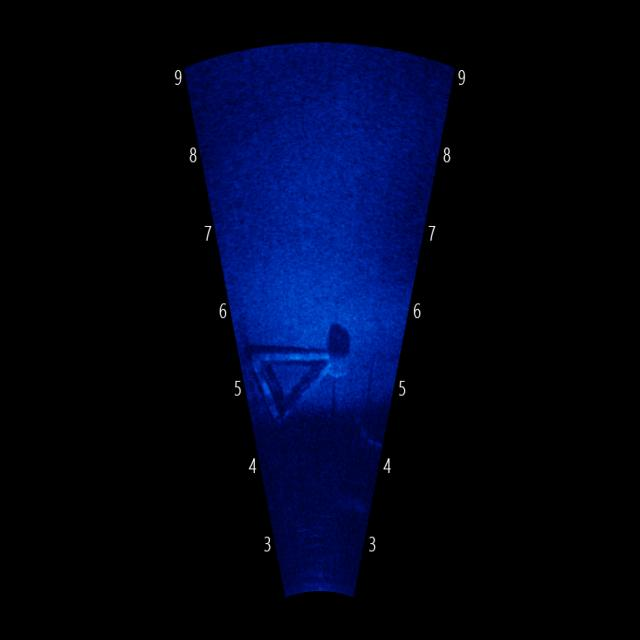triangle: (246, 325, 340, 434)
